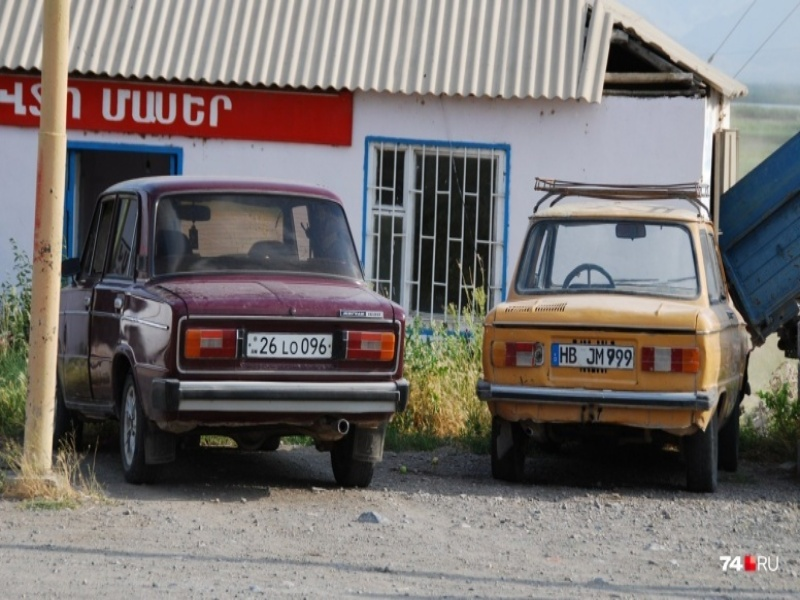car: (60, 175, 409, 485), (478, 205, 747, 487)
plate: (247, 332, 331, 357), (552, 344, 632, 368)
